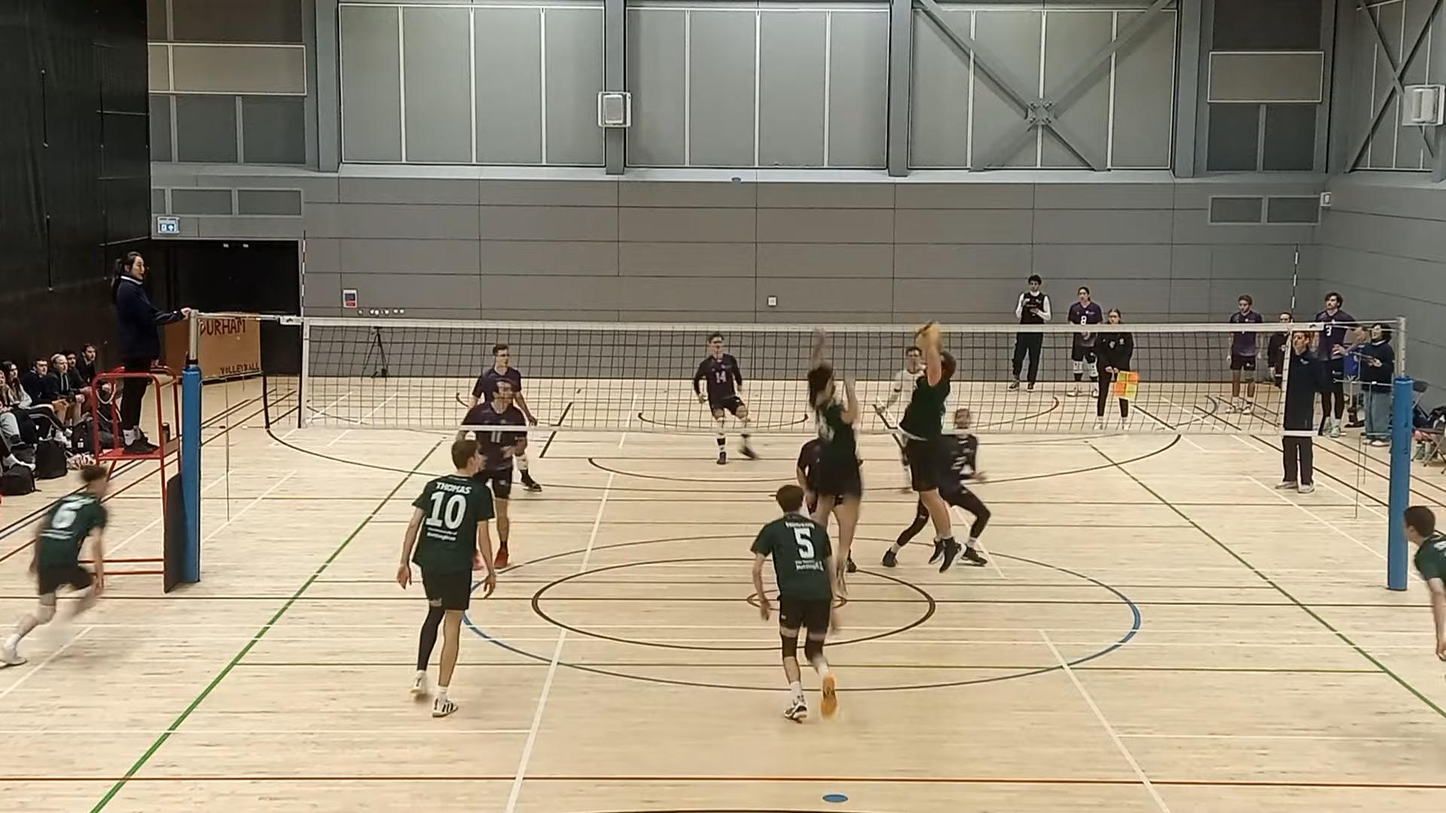alzata: (899, 323, 970, 578)
